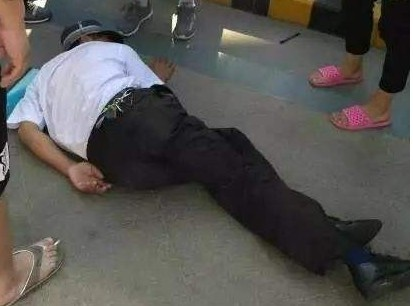falling: (17, 8, 390, 301)
